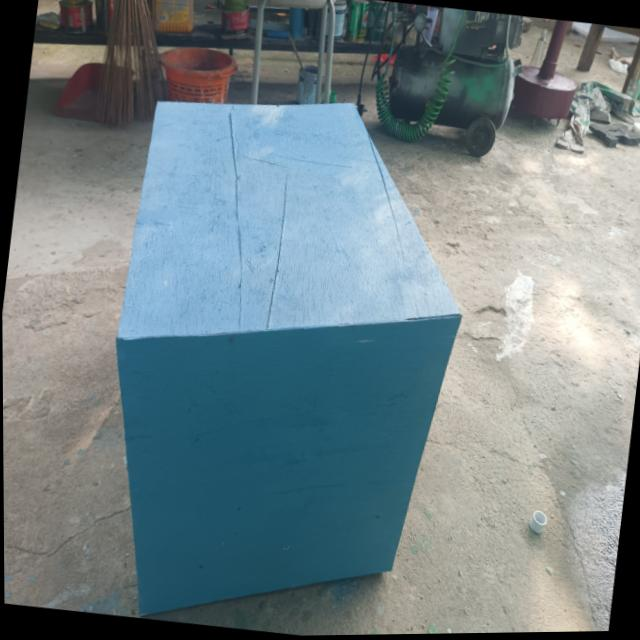blue_box: (79, 74, 495, 639)
